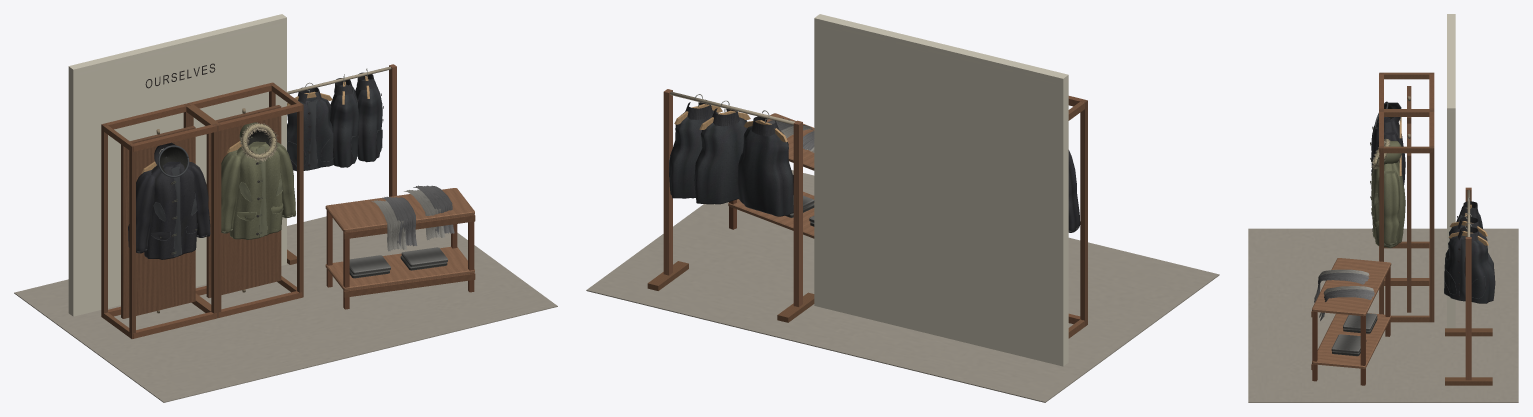
File: gallery.glb
3 renders of one model, left to right at view 1: azimuth 30°, elevation 25°; view 2: azimuth 150°, elevation 25°; view 3: azimuth 270°, elevation 25°, orthographic. The views are drawn at different scales.
Parts seen in each view (by area): view 1: OurselvesGangnamWalnut, OurselvesGangnamMilParka, OurselvesGangnamHardware; view 2: OurselvesGangnamWalnut, OurselvesGangnamMilParka, OurselvesGangnamHardware; view 3: OurselvesGangnamWalnut, OurselvesGangnamMilParka, OurselvesGangnamHardware.
Part boxes in pixels (x1=…): OurselvesGangnamWalnut: x1=14, y1=14, x2=557, y2=402; OurselvesGangnamMilParka: x1=128, y1=72, x2=383, y2=259; OurselvesGangnamHardware: x1=156, y1=66, x2=391, y2=313; OurselvesGangnamWalnut: x1=586, y1=14, x2=1219, y2=402; OurselvesGangnamMilParka: x1=669, y1=99, x2=1080, y2=232; OurselvesGangnamHardware: x1=670, y1=91, x2=794, y2=124; OurselvesGangnamWalnut: x1=1248, y1=14, x2=1518, y2=402; OurselvesGangnamMilParka: x1=1370, y1=101, x2=1495, y2=303; OurselvesGangnamHardware: x1=1373, y1=96, x2=1471, y2=236.
Size of the model in its own units: 4.24 by 2.55 by 2.79.
Materials: 2 (2 with a texture image).
